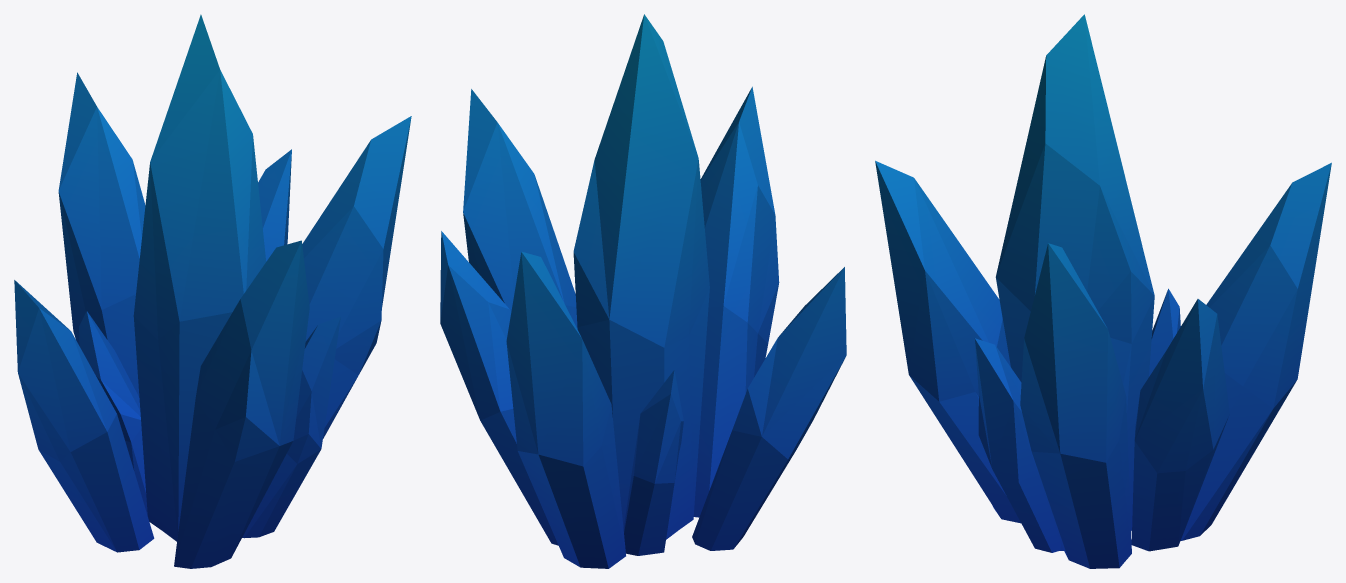
File: Crystal_3.glb
The picture shows the model from 3 angles, left to right: view 1: azimuth 30°, elevation 25°; view 2: azimuth 150°, elevation 25°; view 3: azimuth 270°, elevation 25°; orthographic projection.
Parts seen in each view (by area): view 1: crystal_2; view 2: crystal_2; view 3: crystal_2.
Boxes of the visible parts, box(x1,y1,x2,y2) form: crystal_2: box(14, 14, 411, 568); crystal_2: box(440, 14, 846, 568); crystal_2: box(875, 14, 1331, 568).
Bounding box in the file's own units: 5.78 × 7.31 × 5.92.
